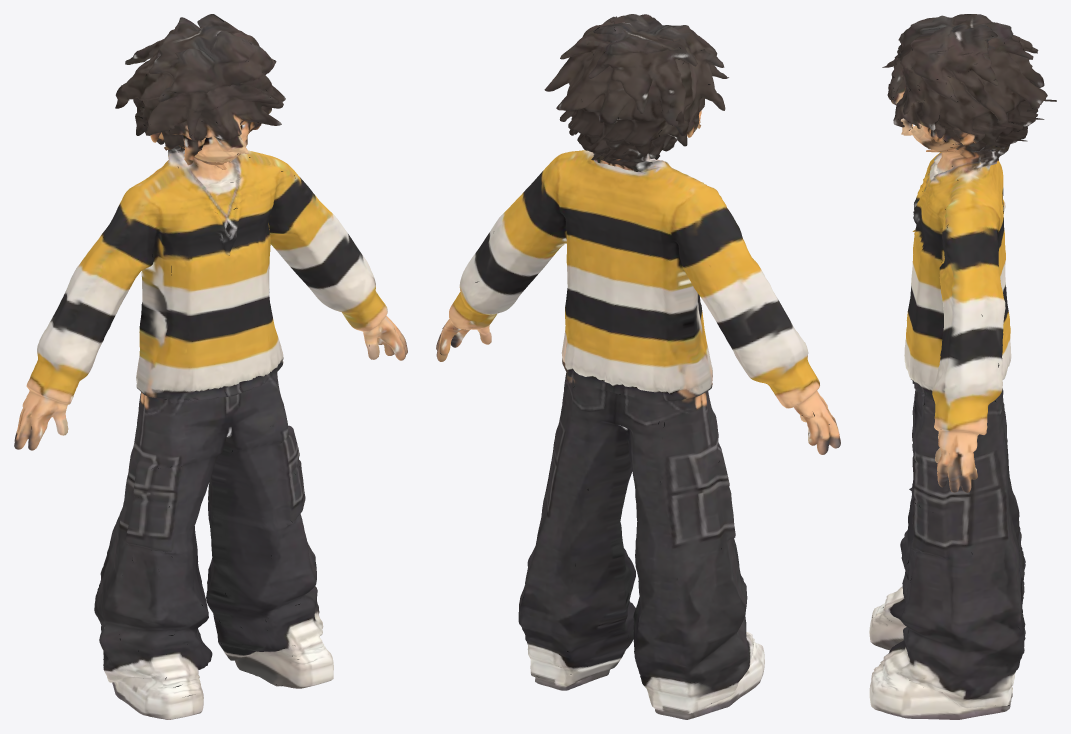
The model's file is personaggio_4viste.glb.
The picture shows the model from 3 angles, left to right: view 1: azimuth 30°, elevation 25°; view 2: azimuth 150°, elevation 25°; view 3: azimuth 270°, elevation 25°; orthographic projection. The views are drawn at different scales.
Parts seen in each view (by area): view 1: personaggio; view 2: personaggio; view 3: personaggio.
Boxes of the visible parts, x1=… form: personaggio: x1=14, y1=14, x2=407, y2=719; personaggio: x1=436, y1=14, x2=840, y2=719; personaggio: x1=869, y1=14, x2=1056, y2=719.
Bounding box in the file's own units: 1.11 × 1.75 × 0.4534.
1 material, 1 textured.
